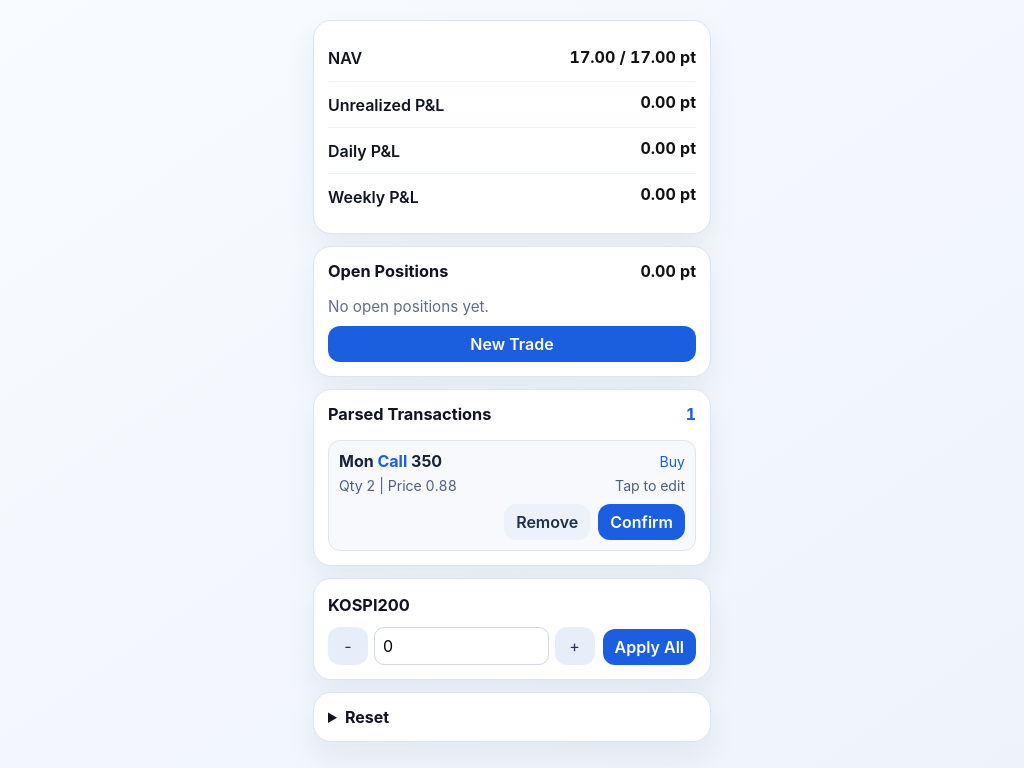
Test case: App dashboard › allows editing parsed buy transaction before review
Expected: the heading "Parsed Transactions" is shown, [328,404,491,424]
Click the button "Mon Call 350 Buy Qty 2 | Price 0.88 Tap to edit" at (356, 461), box [339,451,685,494]
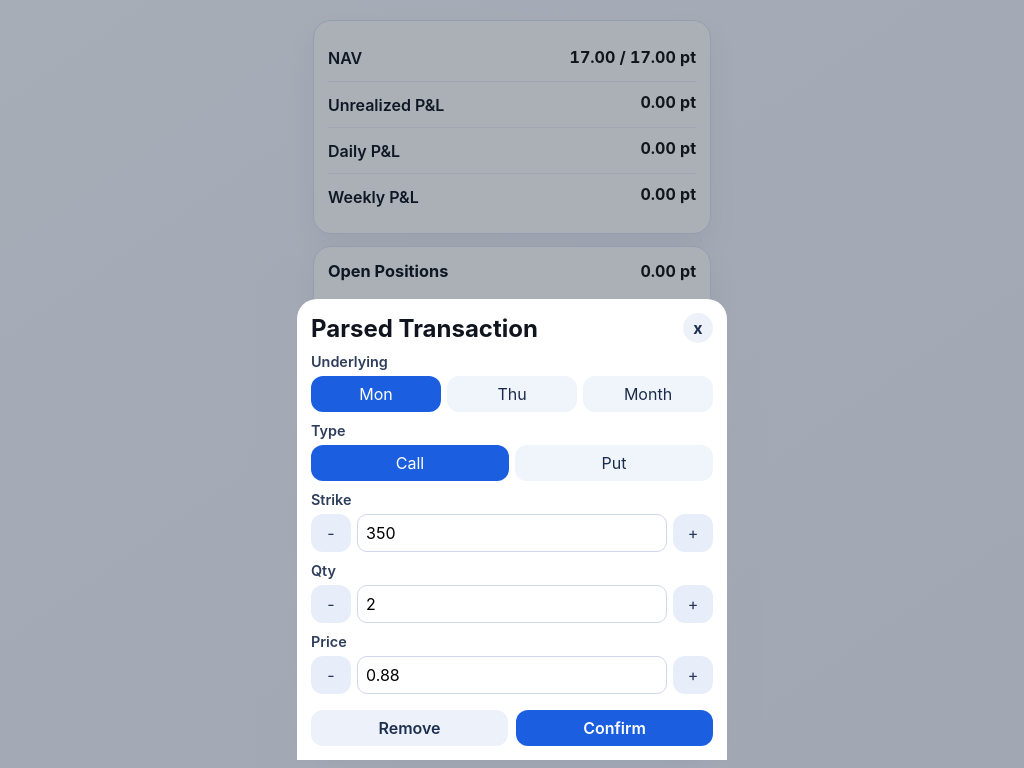
Expected: the field named "Strike" holds "350", [357,514,667,552]
Expected: the field named "Qty" holds "2", [357,585,667,623]
Expected: the field named "Price" holds "0.88", [357,656,667,694]
Click the button "Put" at (614, 463), box [515,445,713,481]
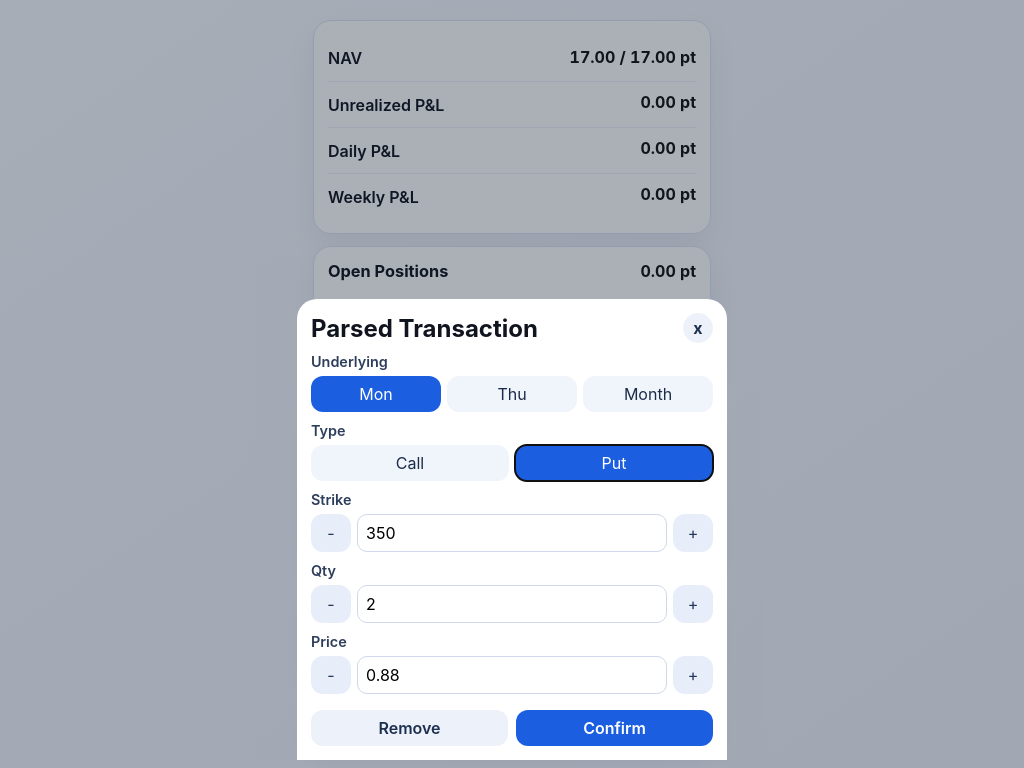
Replace the text in the field named "Strike" with "360" at (512, 533), box [357,514,667,552]
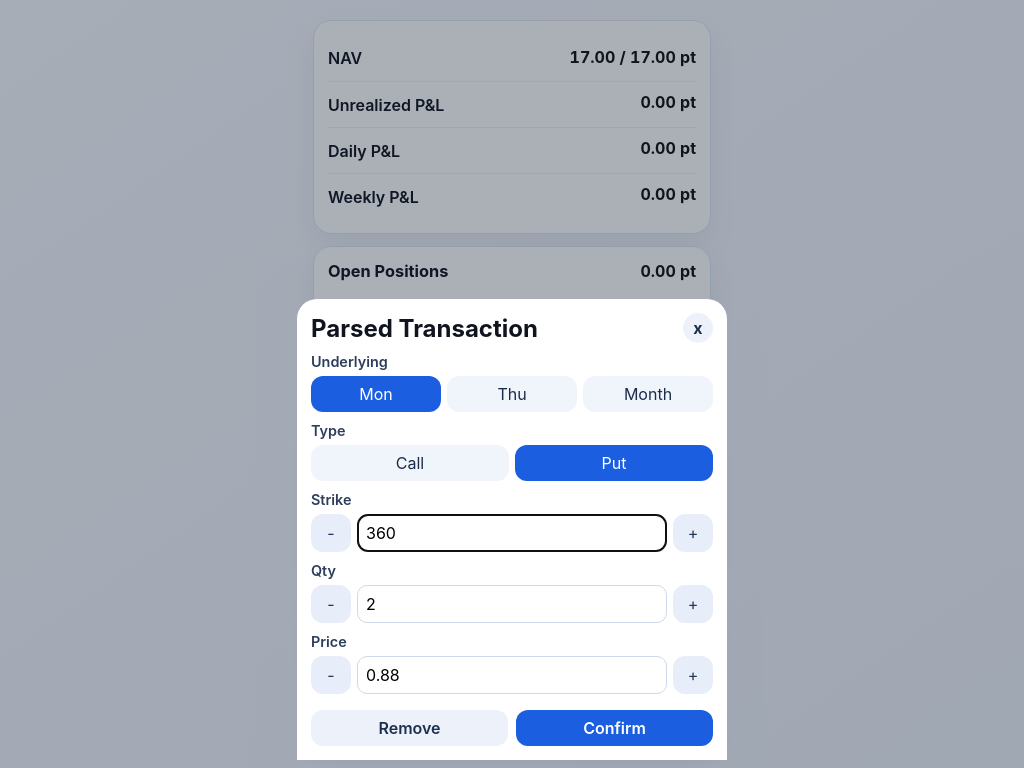
Click the button "Confirm" at (614, 728), box [516,710,713,746]
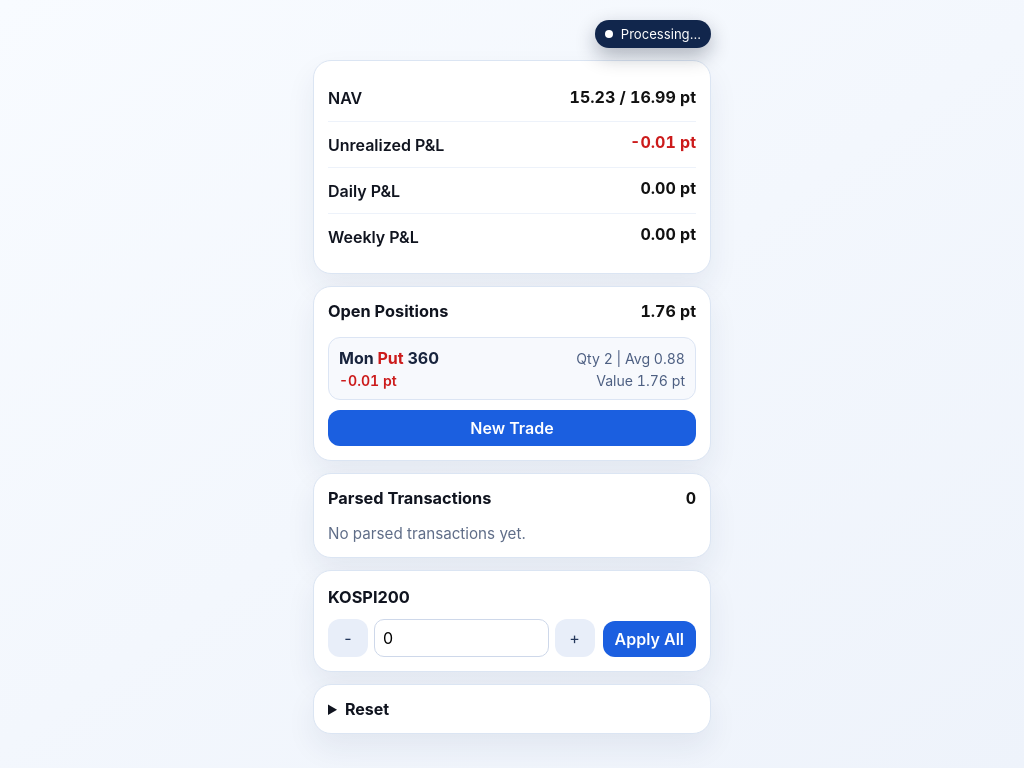
Expected: the button "Mon Put 360 Qty 2 | Avg 0.88 -0.01 pt Value 1.76 pt" is shown, [328,337,696,400]
